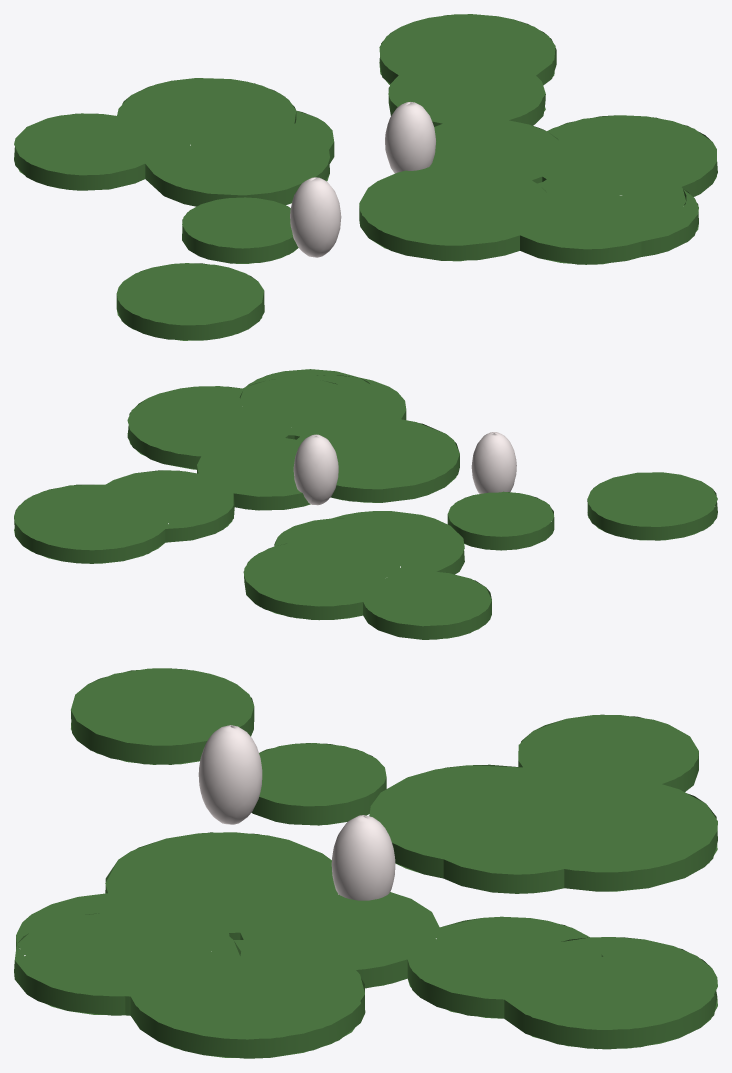
Rendered from f27-lily-pad-raft.lod1.glb.
The picture shows the model from 3 angles, top to bottom: view 1: azimuth 30°, elevation 25°; view 2: azimuth 150°, elevation 25°; view 3: azimuth 270°, elevation 25°; orthographic projection. The views are drawn at different scales.
Parts seen in each view (by area): view 1: part0, part2, part1; view 2: part0, part1, part2; view 3: part0, part2, part1.
Part boxes in pixels (bbox=[...]): part0: bbox=[14, 14, 717, 340]; part2: bbox=[290, 177, 341, 257]; part1: bbox=[385, 102, 435, 173]; part0: bbox=[14, 369, 717, 639]; part1: bbox=[293, 434, 338, 505]; part2: bbox=[471, 432, 516, 493]; part0: bbox=[14, 668, 717, 1058]; part2: bbox=[198, 725, 262, 824]; part1: bbox=[331, 815, 395, 900].
Size of the model in its own units: 3303 by 400 by 2646.
